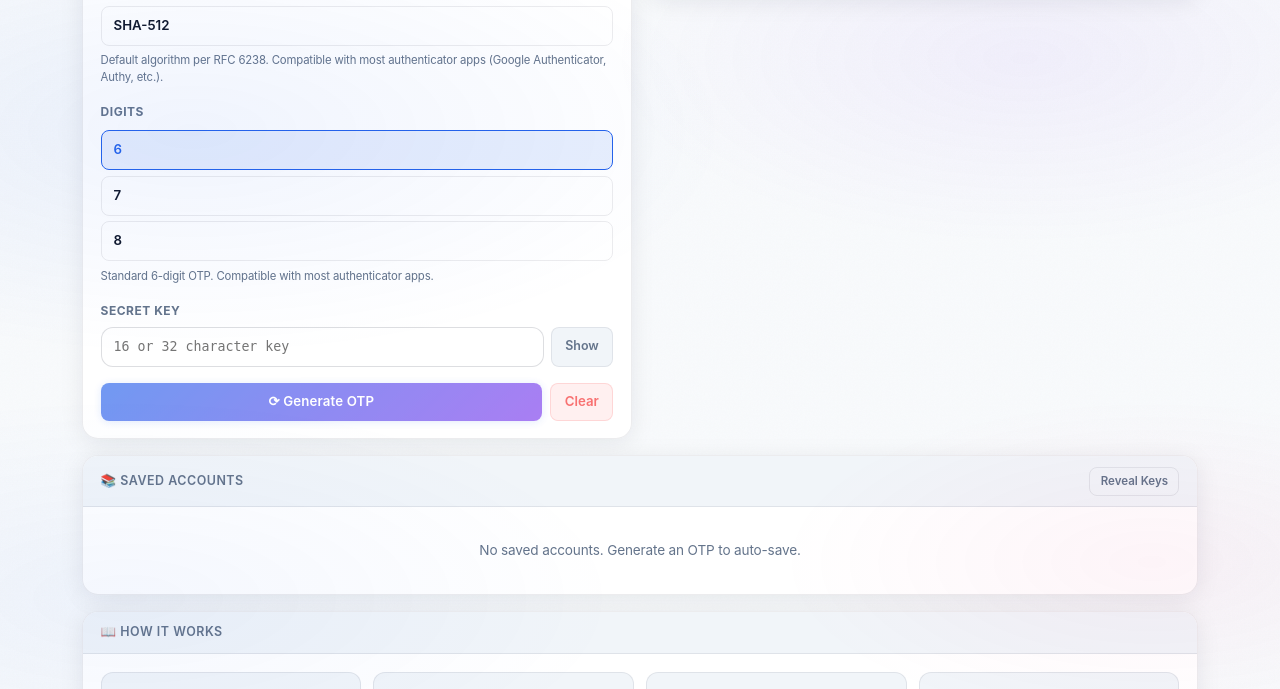
Scenario: OtpGenerator Component › shows validation error for invalid secret key length
(page scrolled)
Type "SHORT" into the password field with placeholder "16 or 32 character key" at x=322, y=347, box x1=101 y1=327 x2=544 y2=367
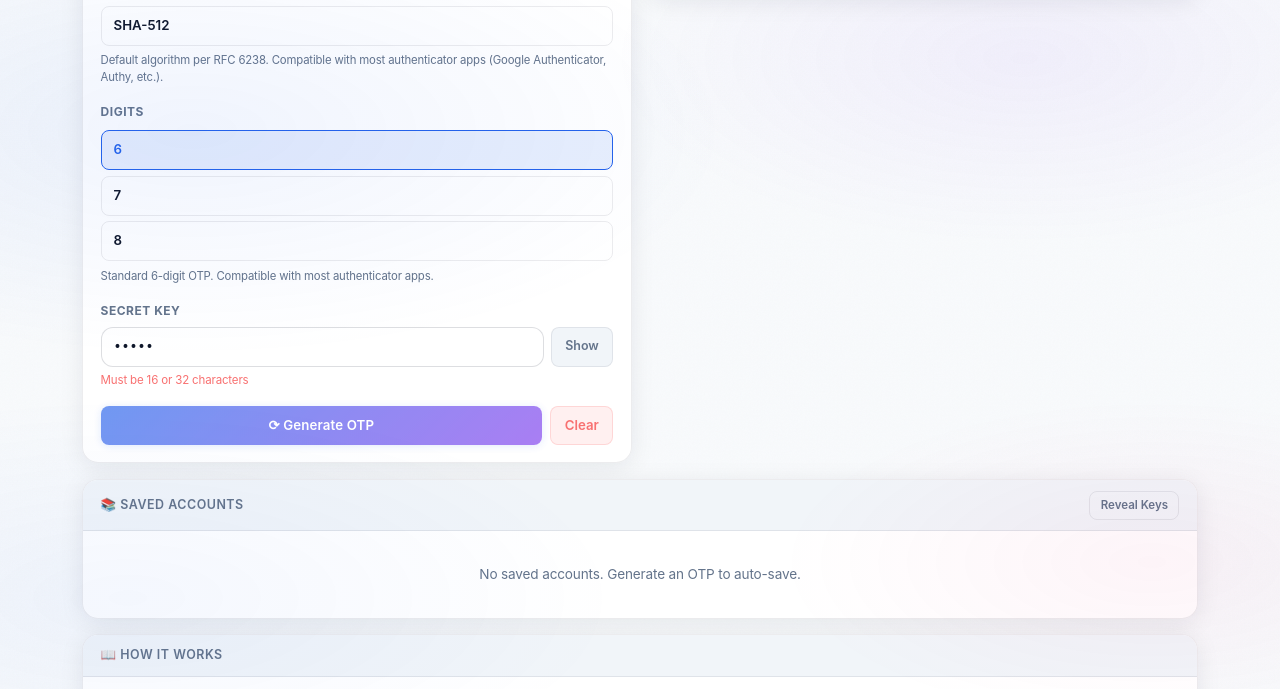
Check: the text "Must be 16 or 32 characters" is shown, box x1=101 y1=373 x2=248 y2=387
